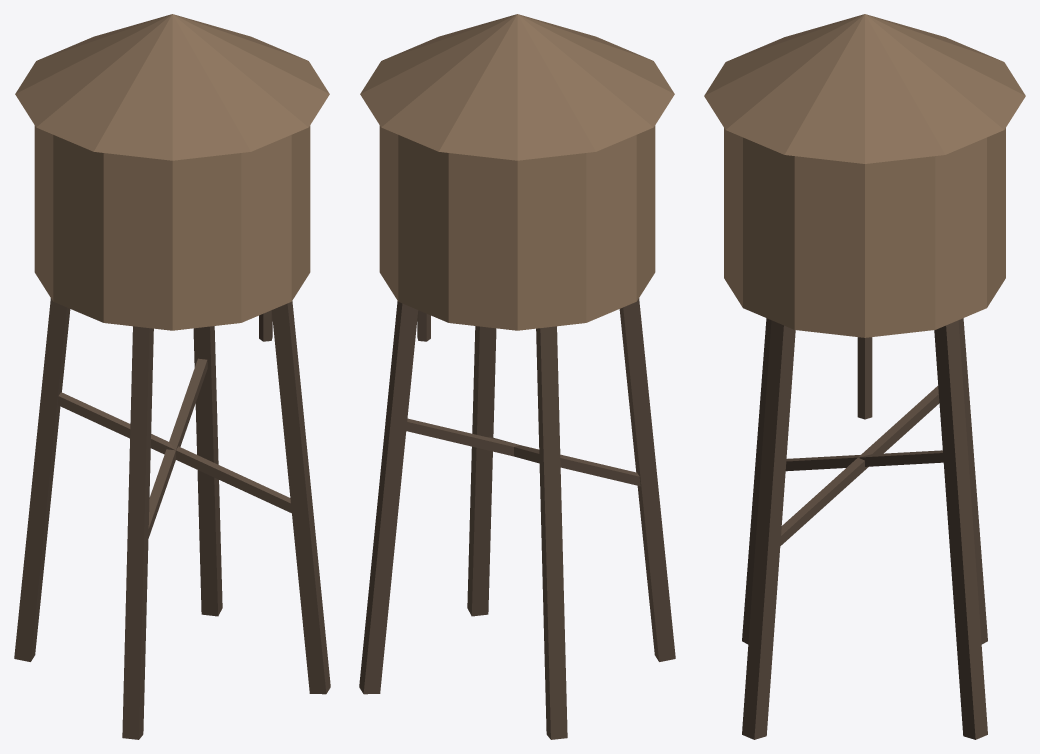
The model's file is w_wasserturm.glb.
3 views of the same model, side by side, from view 1: azimuth 30°, elevation 25°; view 2: azimuth 150°, elevation 25°; view 3: azimuth 270°, elevation 25° (orthographic). The views are drawn at different scales.
Visible parts, largest first — view 1: koerper; view 2: koerper; view 3: koerper.
Part boxes in pixels (x1,y1,x2,y2): koerper: (14,14,330,739); koerper: (359,14,675,739); koerper: (704,14,1025,739).
Bounding box in the file's own units: 6.4 × 14.82 × 6.4.
